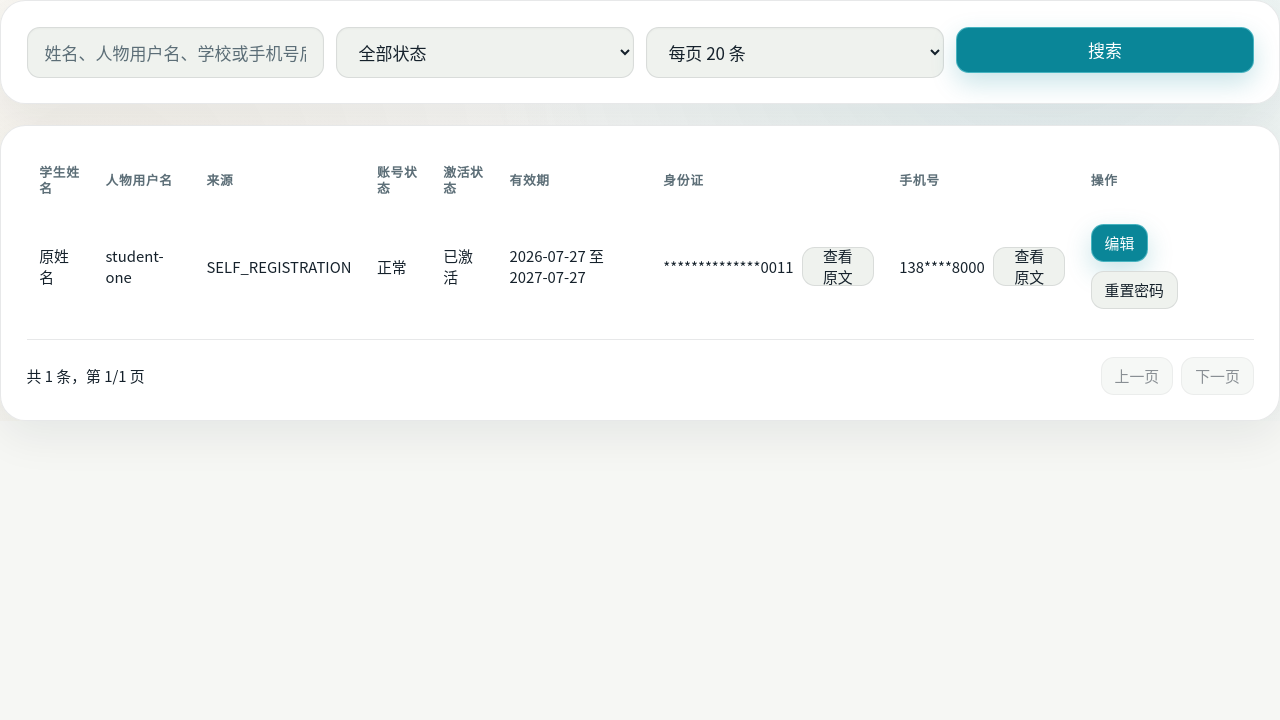
Test case: student account manager › edits permitted profile fields while keeping the person username immutable
Click the button "编辑".
click(1119, 243)  # box [1091, 224, 1148, 262]
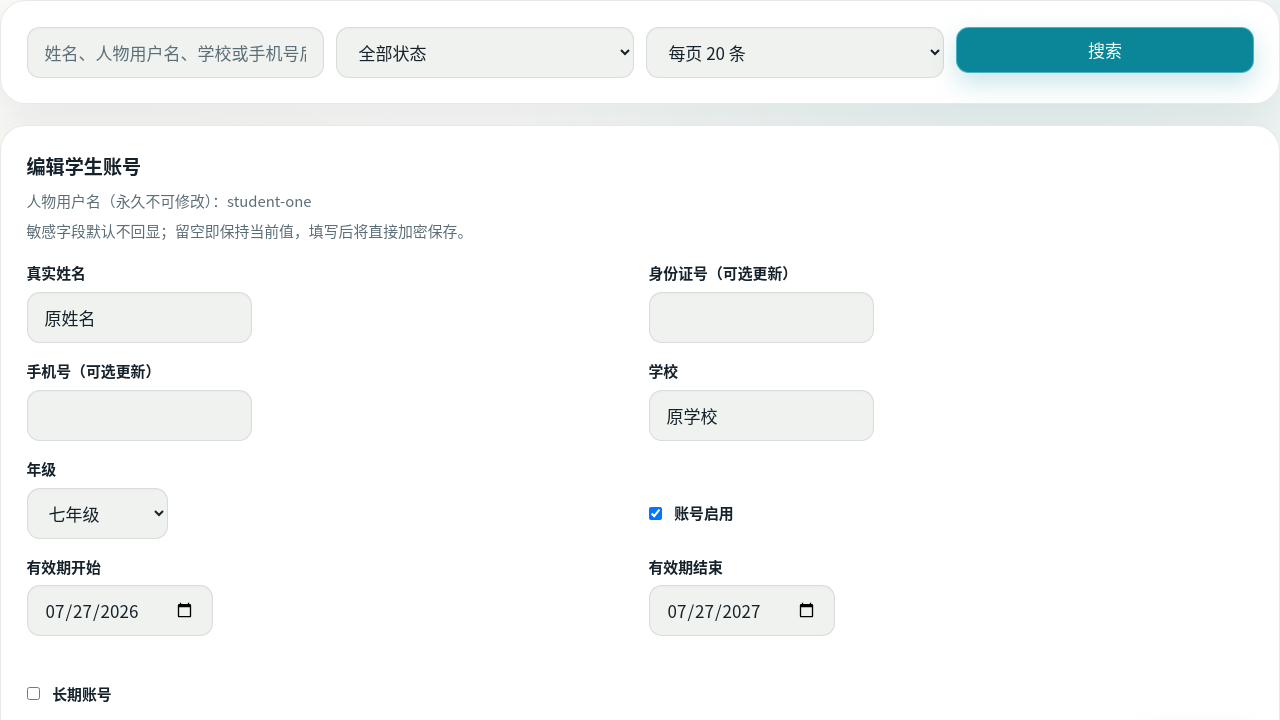
Check: the heading "编辑学生账号" is shown, box [26, 152, 141, 180]
Check: the text "人物用户名（永久不可修改）：student-one" is shown, box [26, 190, 312, 211]
Replace the text in the field labelled "真实姓名" with "新姓名" at coordinates (139, 318), box [26, 292, 252, 343]
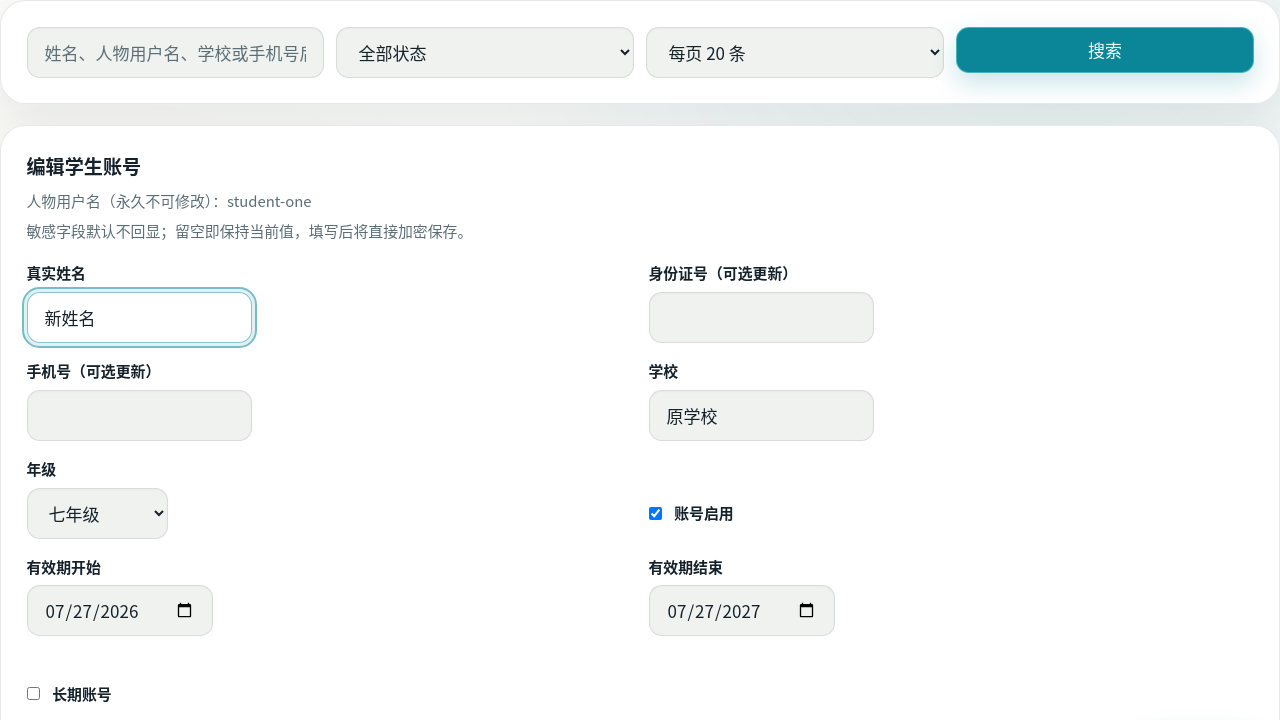
Replace the text in the field labelled "学校" with "新学校" at coordinates (761, 415), box [648, 390, 874, 441]
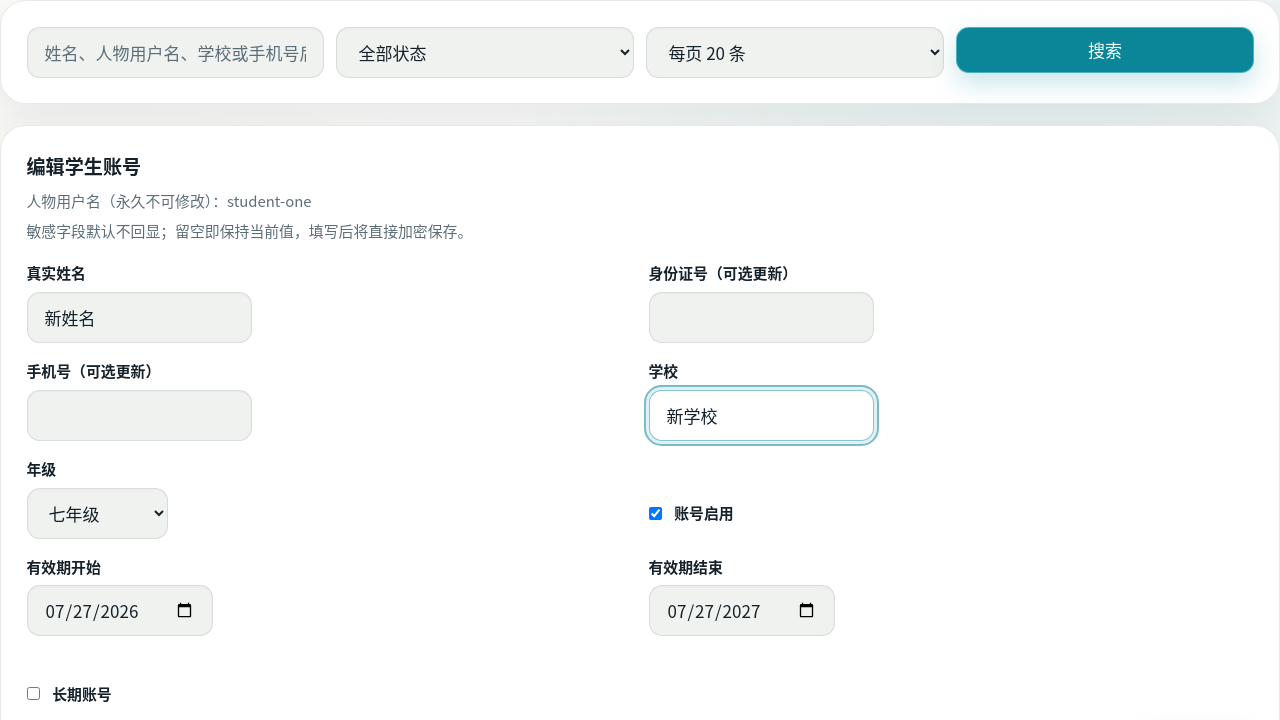
Select "八年级" in the dropdown labelled "年级" at coordinates (97, 513), box [26, 488, 168, 538]
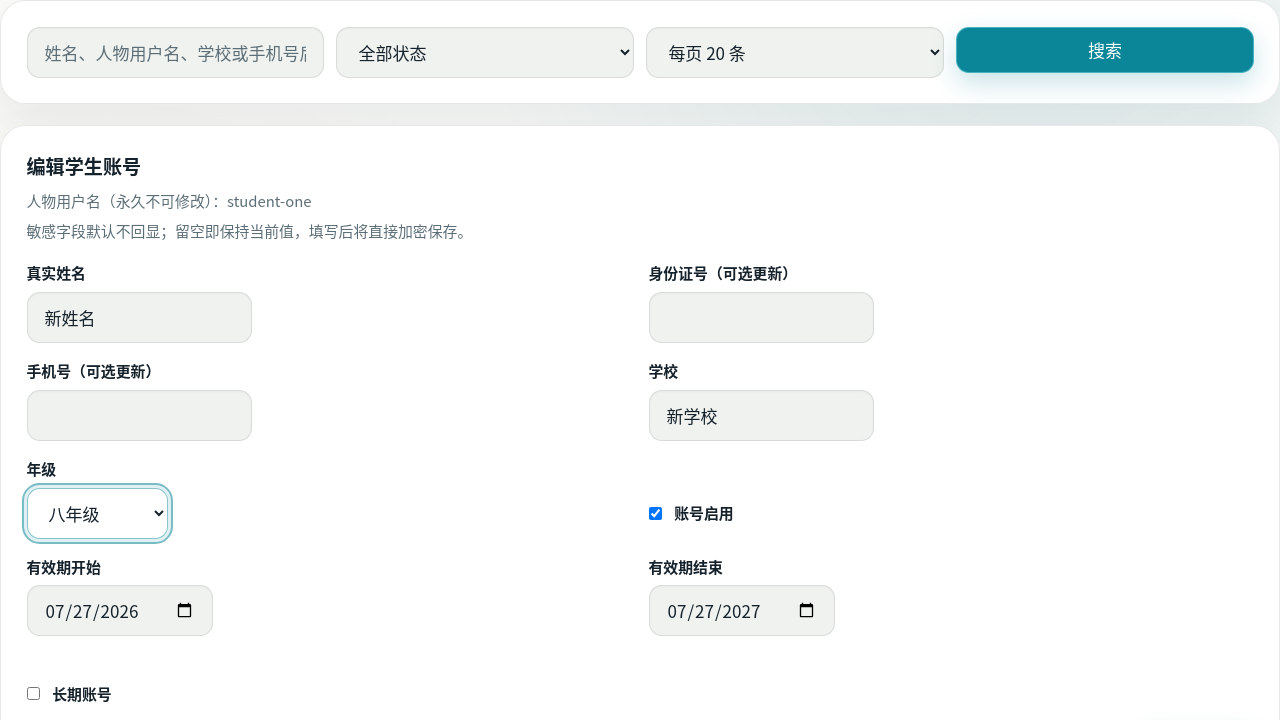
Click the checkbox labelled "长期账号".
click(33, 694)  # box [26, 687, 40, 700]
(page scrolled)
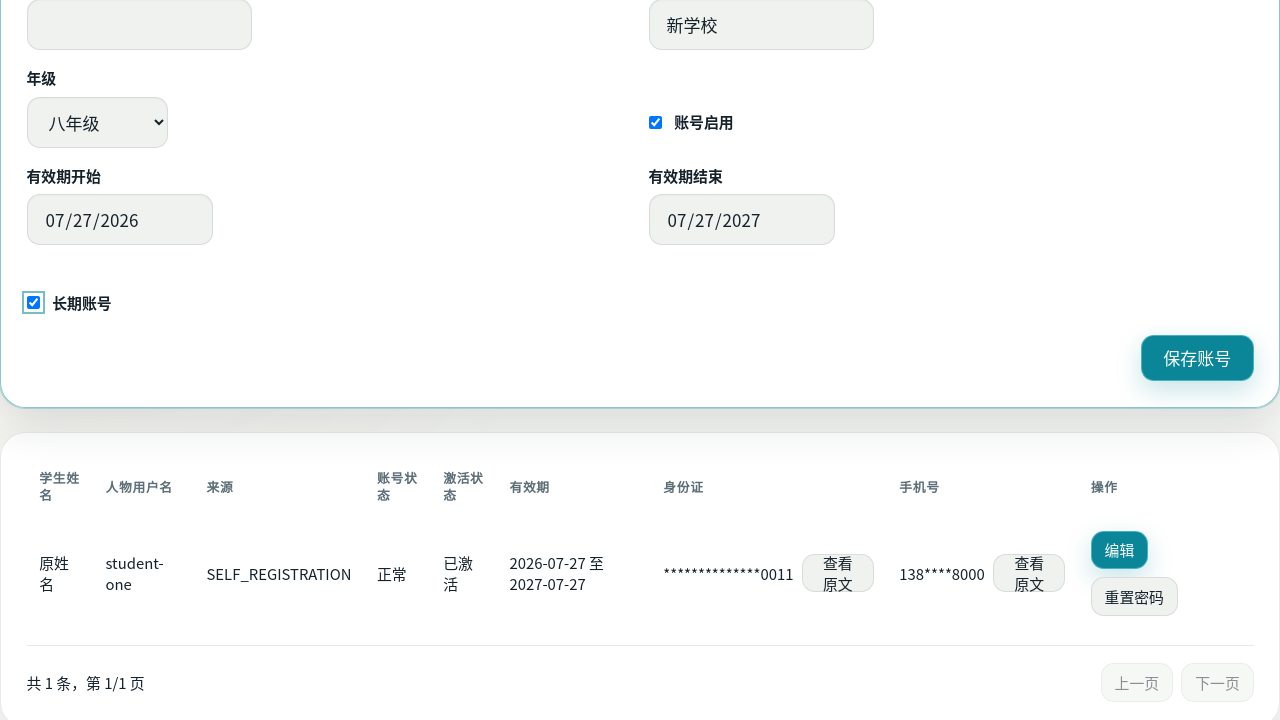
Click the button "保存账号".
click(1197, 358)  # box [1141, 334, 1254, 381]
(page scrolled)
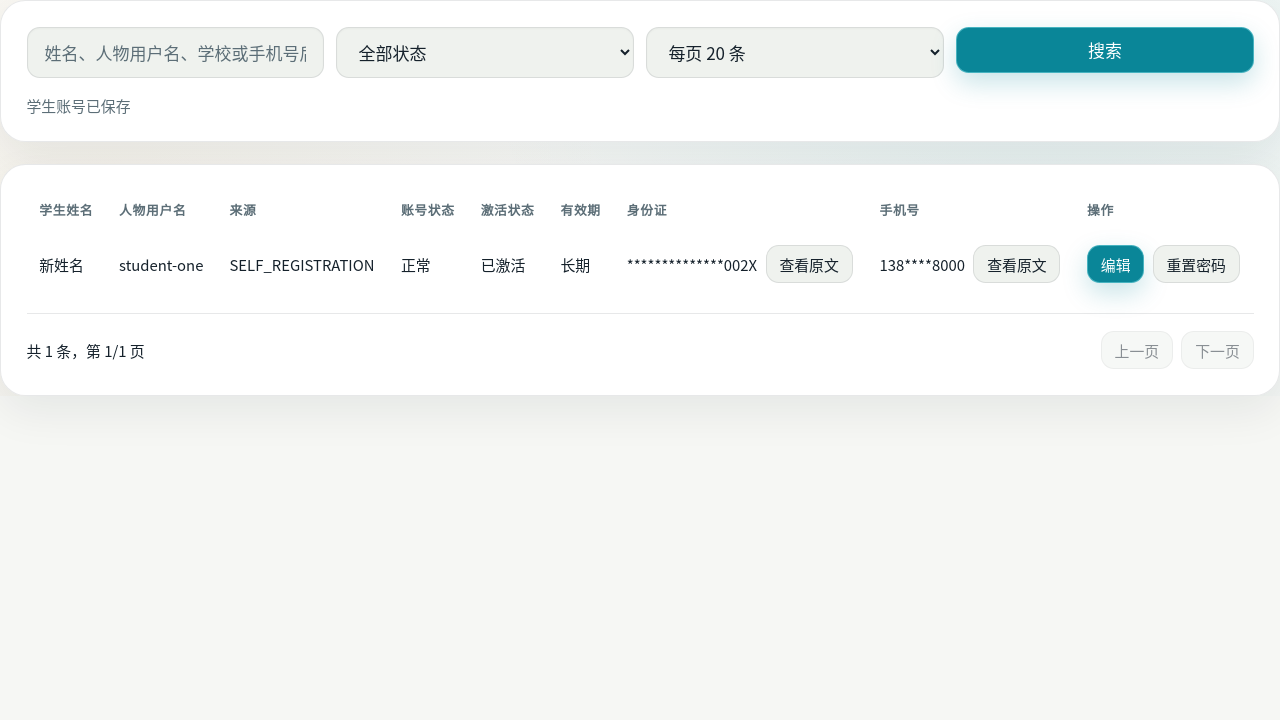
Check: the text "学生账号已保存" is shown, box [26, 94, 130, 116]
Check: the text "**************002X" is shown, box [627, 254, 757, 275]
